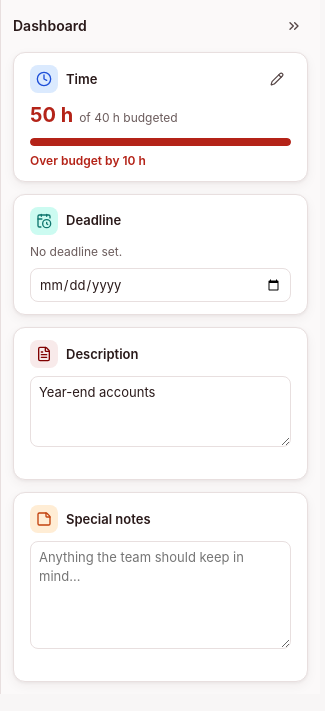
Test case: WorkspaceDashboardPanel › collapses to an icon rail and expands again
What coordinates should you click on to do the following:
click the button named "Hide dashboard"
I would click on:
 (294, 26)
Its box is 280,12 -> 308,40.
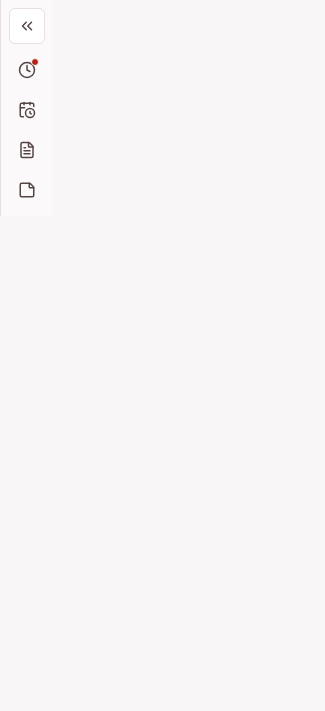
Check: the heading "Special notes" is gone
Check: the button named "Time: 50 h of 40 h" is shown, box 8,52 -> 44,88
What coordinates should you click on to do the following:
click the button named "Show dashboard"
I would click on:
 (26, 26)
Its box is 8,8 -> 44,44.
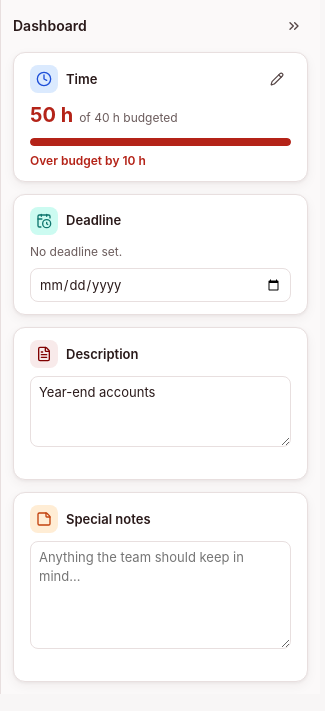
Check: the element "Special notes" is shown, box 13,492 -> 308,682
